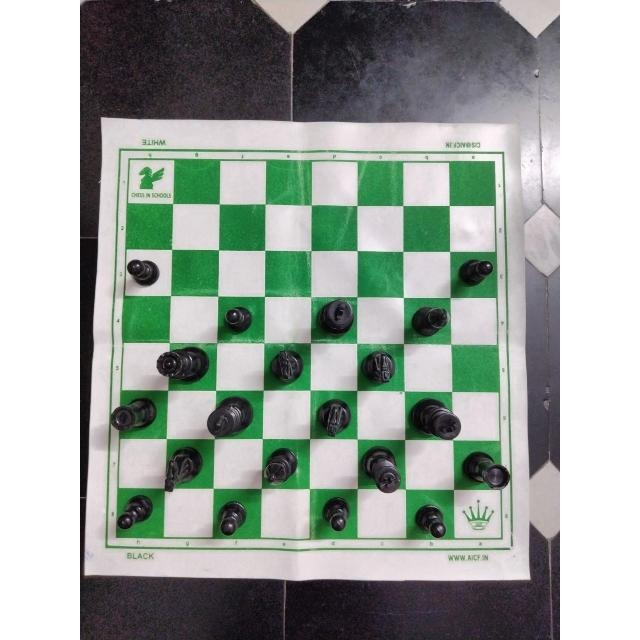black-bishop: (403, 298, 452, 343), (263, 440, 306, 488)
black-king: (404, 392, 465, 440), (201, 395, 261, 441), (358, 439, 406, 495), (310, 295, 359, 343)
black-knight: (159, 444, 208, 494), (314, 392, 357, 436), (265, 345, 309, 386), (358, 348, 400, 390)
black-pawn: (217, 296, 263, 340), (407, 499, 453, 541), (113, 494, 160, 534), (315, 494, 355, 537), (212, 494, 251, 537), (454, 252, 498, 290), (124, 254, 164, 290)
black-queen: (151, 342, 216, 387)
black-rook: (105, 391, 160, 437), (459, 449, 511, 493)
